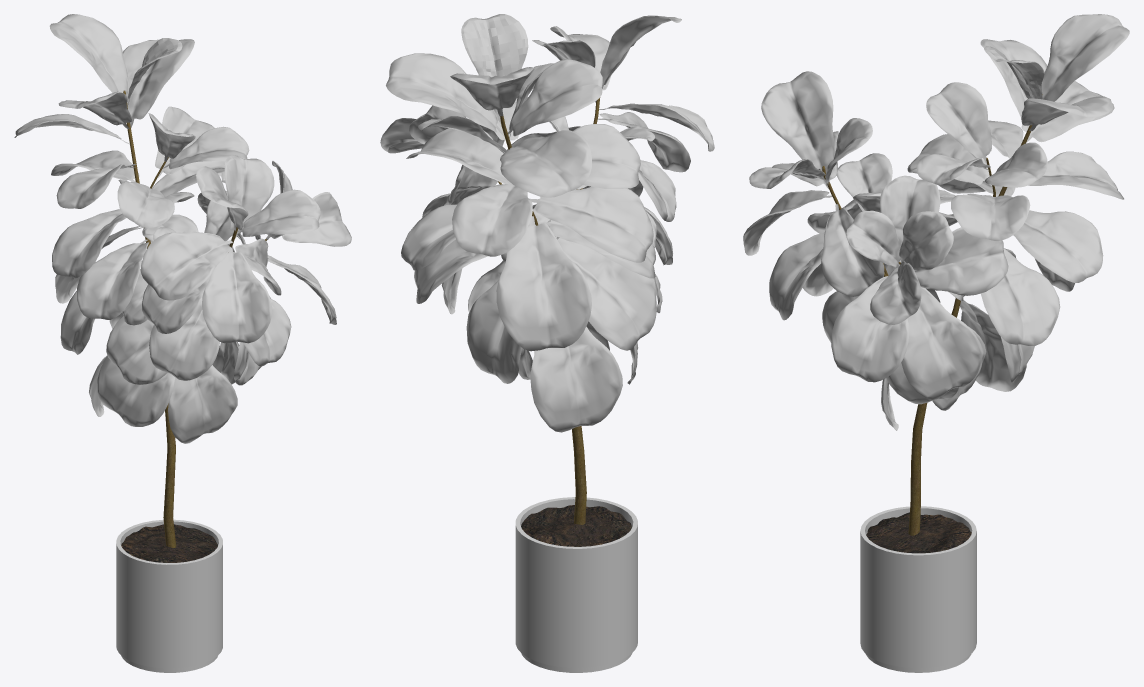
The model's file is Fig.fbx.
The picture shows the model from 3 angles, left to right: view 1: azimuth 30°, elevation 25°; view 2: azimuth 150°, elevation 25°; view 3: azimuth 270°, elevation 25°; orthographic projection. The views are drawn at different scales.
Visible parts, largest first — view 1: pot, leaf056, leaf018, leaf007, leaf063, leaf053, leaf032, leaf022, leaf039, leaf031, soil, leaf016 (+26 smaller); view 2: pot, leaf030, leaf002, leaf039, leaf029, leaf040, leaf064, leaf031, leaf037, soil, leaf, leaf071 (+21 smaller); view 3: pot, leaf074, leaf073, leaf027, leaf001, leaf003, leaf032, leaf069, leaf043, leaf070, soil, leaf066 (+24 smaller).
Part boxes in pixels (bbox=[...]): pot: bbox=[116, 519, 222, 672]; leaf056: bbox=[202, 247, 272, 343]; leaf018: bbox=[141, 232, 232, 300]; leaf007: bbox=[168, 365, 237, 443]; leaf063: bbox=[77, 239, 148, 319]; leaf053: bbox=[149, 301, 219, 380]; leaf032: bbox=[49, 14, 128, 95]; leaf022: bbox=[97, 356, 175, 426]; leaf039: bbox=[52, 209, 126, 278]; leaf031: bbox=[122, 39, 194, 127]; soil: bbox=[121, 524, 217, 562]; leaf016: bbox=[236, 189, 320, 236]; pot: bbox=[515, 497, 637, 672]; leaf030: bbox=[496, 216, 591, 351]; leaf002: bbox=[530, 326, 622, 432]; leaf039: bbox=[529, 186, 653, 262]; leaf029: bbox=[557, 238, 656, 350]; leaf040: bbox=[500, 130, 591, 197]; leaf064: bbox=[452, 184, 532, 256]; leaf031: bbox=[386, 53, 504, 135]; leaf037: bbox=[508, 59, 602, 136]; soil: bbox=[521, 505, 631, 546]; leaf: bbox=[461, 14, 528, 77]; leaf071: bbox=[466, 279, 521, 383]; pot: bbox=[860, 506, 976, 672]; leaf074: bbox=[901, 287, 982, 399]; leaf073: bbox=[761, 71, 834, 173]; leaf027: bbox=[831, 276, 909, 382]; leaf001: bbox=[980, 248, 1060, 345]; leaf003: bbox=[1013, 210, 1103, 282]; leaf032: bbox=[1041, 14, 1129, 101]; leaf069: bbox=[914, 227, 1008, 295]; leaf043: bbox=[926, 82, 991, 164]; leaf070: bbox=[821, 204, 884, 296]; soil: bbox=[866, 512, 971, 553]; leaf066: bbox=[951, 193, 1030, 240].
Bounding box in the file's own units: 75.52 × 160 × 90.37.
